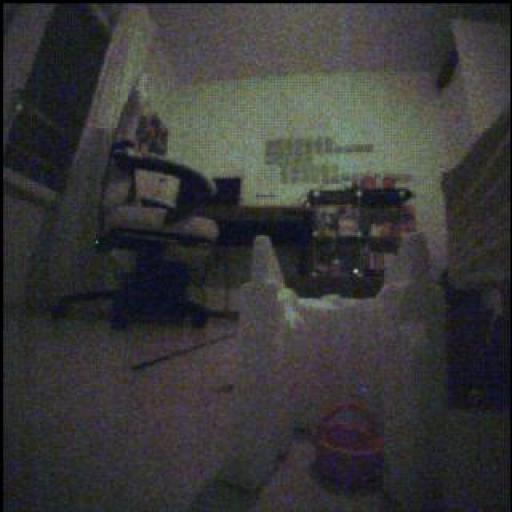basket: (315, 404, 385, 489), (363, 176, 379, 192), (383, 177, 398, 190)
